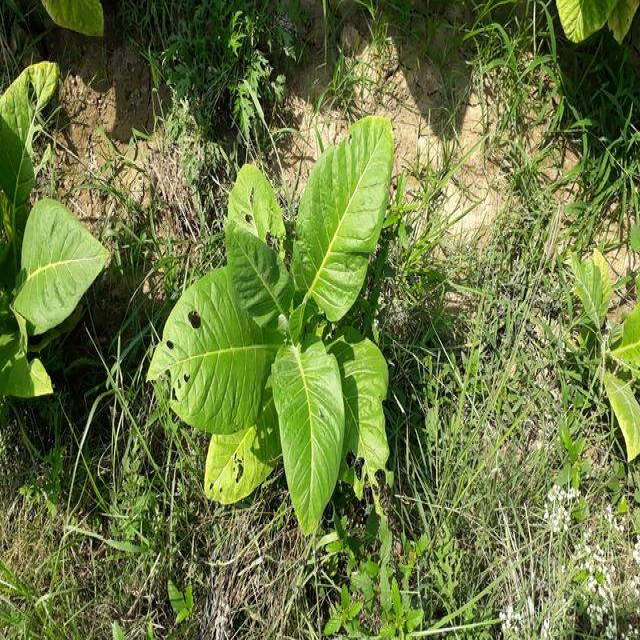crop: (168, 119, 396, 521), (0, 58, 100, 406)
